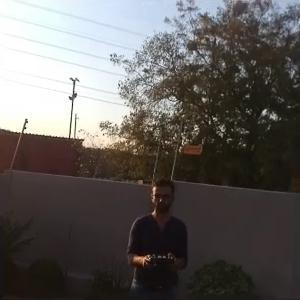follow: (119, 169, 193, 298)
